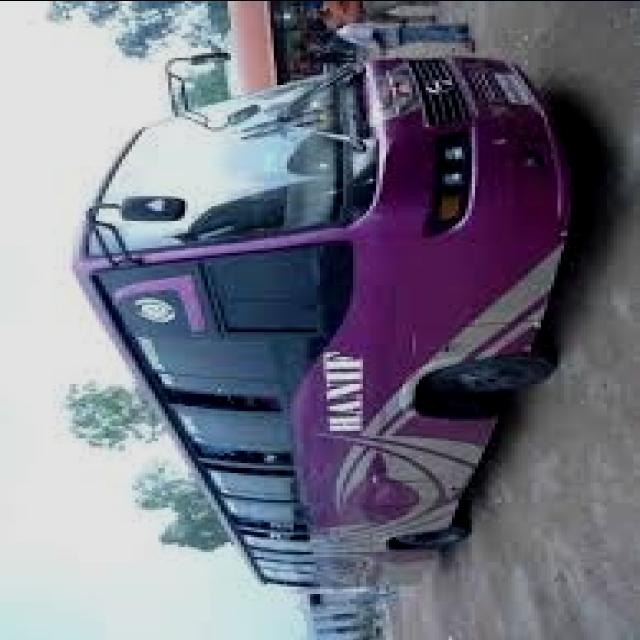bus: (72, 56, 602, 598)
